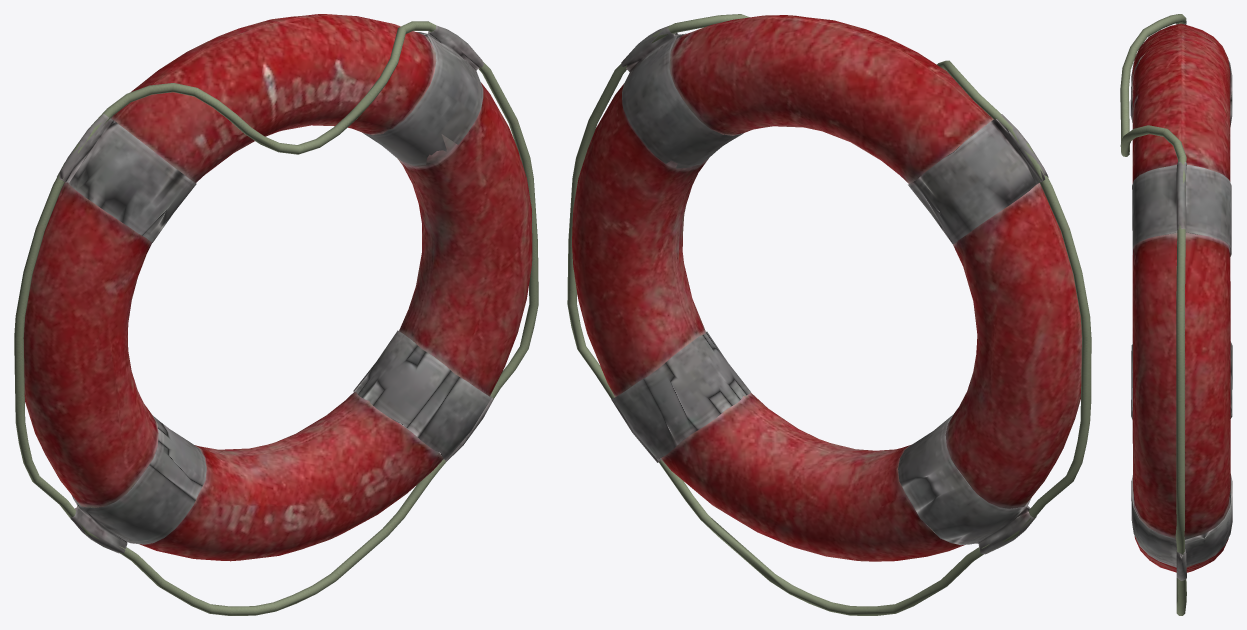
Rendered from lifebuoy.glb.
3 renders of one model, left to right at view 1: azimuth 30°, elevation 25°; view 2: azimuth 150°, elevation 25°; view 3: azimuth 270°, elevation 25°, orthographic. The views are drawn at different scales.
Visible parts, largest first — view 1: lifebuoy; view 2: lifebuoy; view 3: lifebuoy.
Boxes of the visible parts, box(x1,y1,x2,y2) form: lifebuoy: box(14, 14, 538, 615); lifebuoy: box(567, 14, 1091, 615); lifebuoy: box(1120, 14, 1232, 615).
Bounding box in the file's own units: 0.783 × 0.8411 × 0.1547.
1 material, 1 textured.
